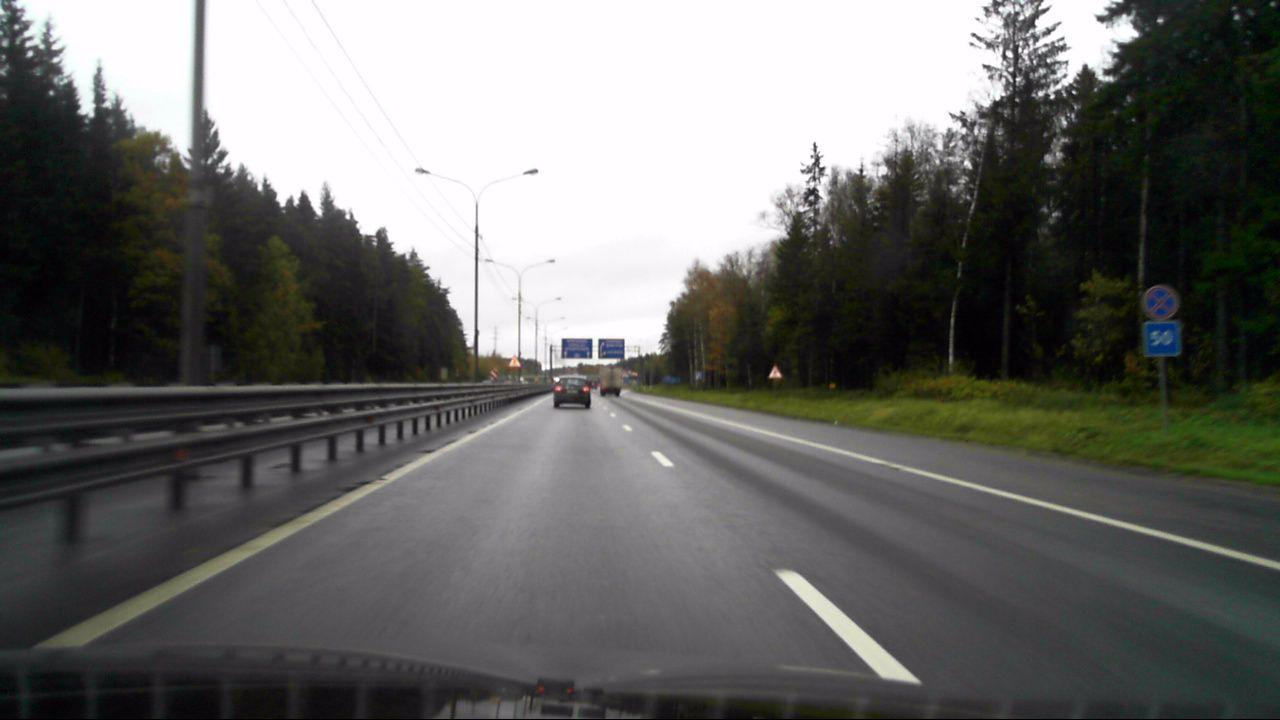1_8: (768, 364, 785, 380), (507, 354, 523, 368)
3_27: (1143, 283, 1179, 319)
6_2: (1144, 323, 1177, 352)
